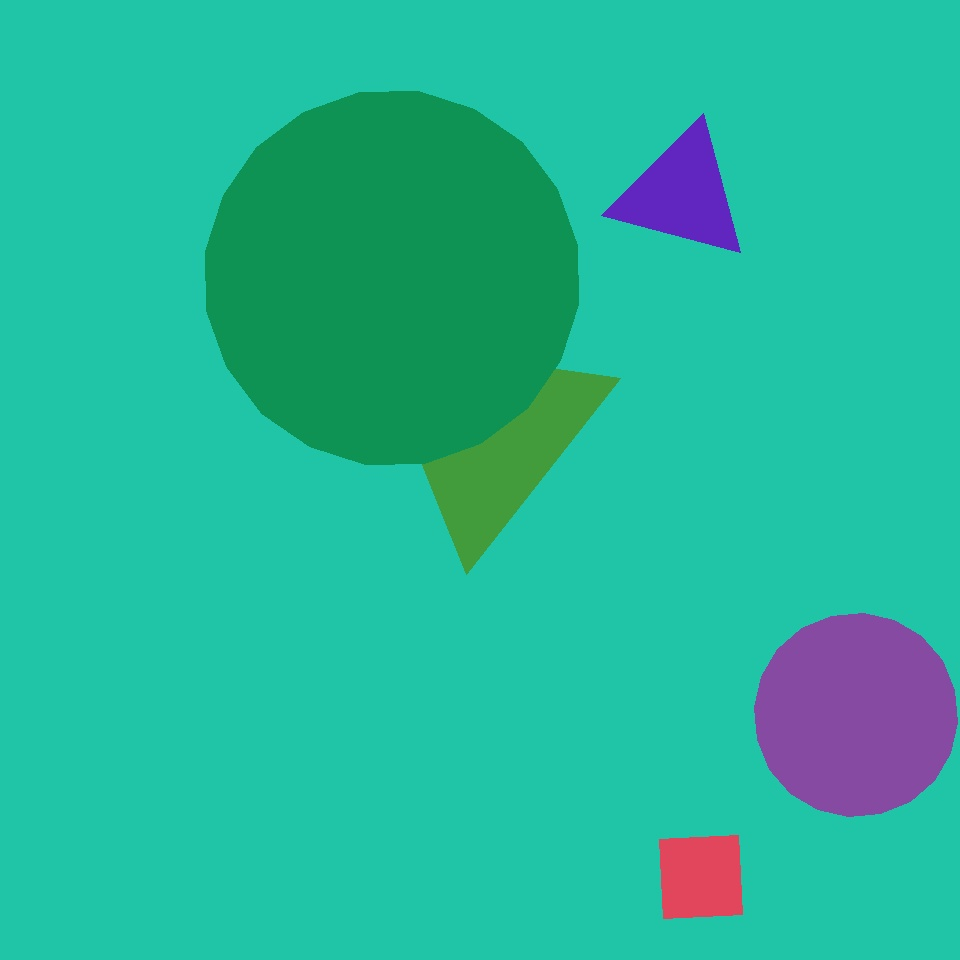circle: (364, 316, 610, 548), (612, 125, 752, 264)
square: (660, 836, 742, 918)
triangle: (206, 92, 578, 464), (755, 614, 958, 816)
